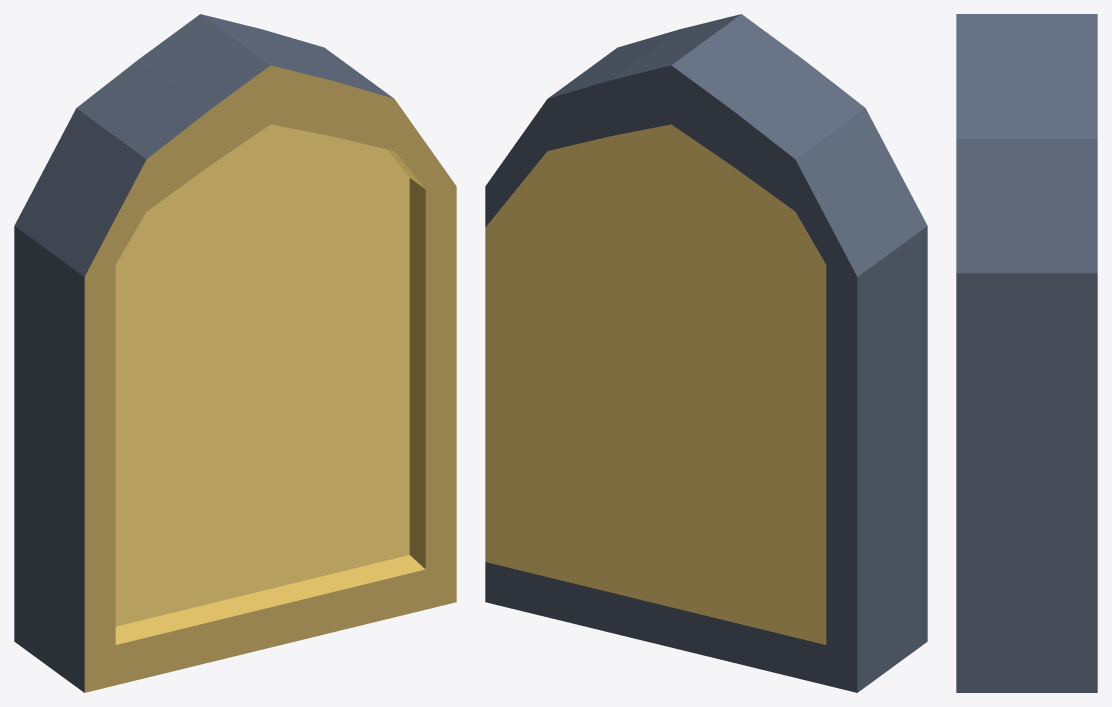
Rendered from Porta brilhante.fbx.
3 renders of one model, left to right at view 1: azimuth 30°, elevation 25°; view 2: azimuth 150°, elevation 25°; view 3: azimuth 270°, elevation 25°, orthographic.
Parts seen in each view (by area): view 1: Portal.001; view 2: Portal.001; view 3: Portal.001.
Boxes of the visible parts, x1=… form: Portal.001: x1=14, y1=14, x2=456, y2=692; Portal.001: x1=485, y1=14, x2=927, y2=692; Portal.001: x1=956, y1=14, x2=1097, y2=692.
Bounding box in the file's own units: 276 × 412 × 90.1.
Materials: 1 (1 with a texture image).
